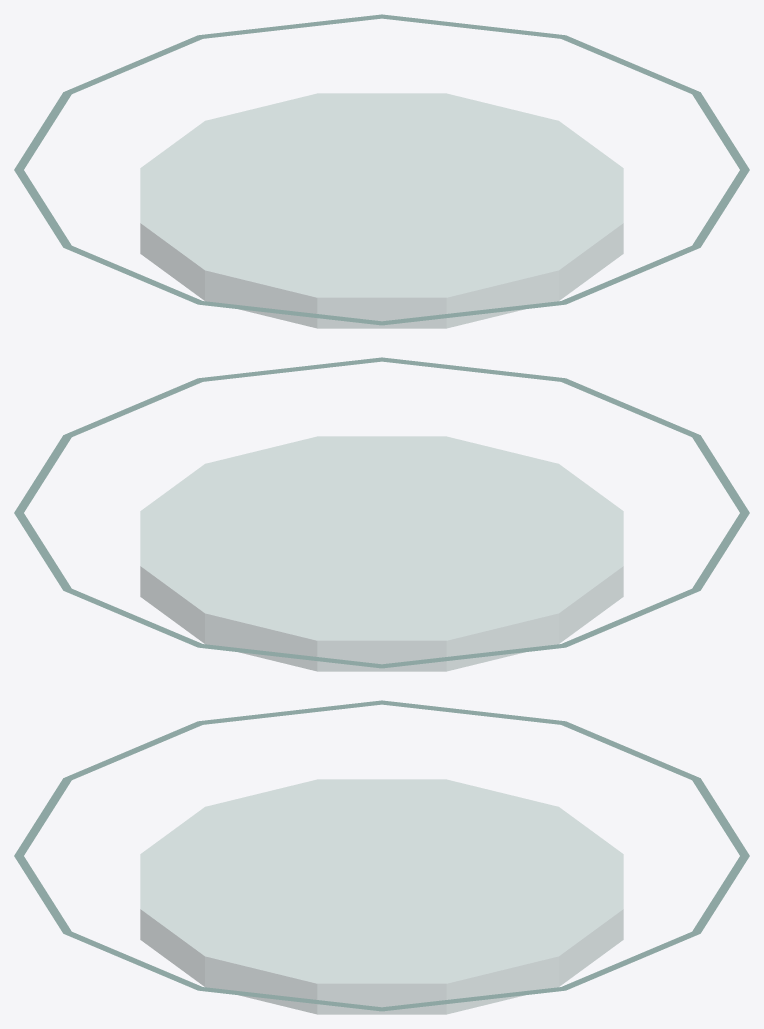
Rendered from glass_plate.glb.
3 views of the same model, one above another, from view 1: azimuth 30°, elevation 25°; view 2: azimuth 150°, elevation 25°; view 3: azimuth 270°, elevation 25° (orthographic).
Visible parts, largest first — view 1: block_thick foot, block_rolled rim 3, block_rolled rim 4, block_rolled rim 9, block_rolled rim 10, block_rolled rim 2, block_rolled rim 5, block_rolled rim 8, block_rolled rim 11, block_rolled rim 0, block_rolled rim 7, block_rolled rim 1 (+1 smaller); view 2: block_thick foot, block_rolled rim 7, block_rolled rim 8, block_rolled rim 1, block_rolled rim 2, block_rolled rim 0, block_rolled rim 3, block_rolled rim 6, block_rolled rim 9, block_rolled rim 4, block_rolled rim 11, block_rolled rim 5 (+1 smaller); view 3: block_thick foot, block_rolled rim 0, block_rolled rim 11, block_rolled rim 5, block_rolled rim 6, block_rolled rim 1, block_rolled rim 4, block_rolled rim 7, block_rolled rim 10, block_rolled rim 3, block_rolled rim 8, block_rolled rim 2 (+1 smaller).
Part boxes in pixels (x1,y1,x2,y2): block_thick foot: [140, 93, 623, 328]; block_rolled rim 3: [382, 301, 565, 325]; block_rolled rim 4: [198, 301, 381, 325]; block_rolled rim 9: [198, 14, 381, 38]; block_rolled rim 10: [382, 14, 565, 38]; block_rolled rim 2: [561, 245, 699, 304]; block_rolled rim 5: [64, 245, 202, 304]; block_rolled rim 8: [63, 35, 202, 94]; block_rolled rim 11: [561, 35, 700, 94]; block_rolled rim 0: [692, 92, 749, 169]; block_rolled rim 7: [14, 92, 71, 169]; block_rolled rim 1: [692, 170, 749, 247]; block_thick foot: [140, 436, 623, 671]; block_rolled rim 7: [382, 644, 565, 668]; block_rolled rim 8: [198, 644, 381, 668]; block_rolled rim 1: [198, 357, 381, 381]; block_rolled rim 2: [382, 357, 565, 381]; block_rolled rim 0: [63, 378, 202, 437]; block_rolled rim 3: [561, 378, 700, 437]; block_rolled rim 6: [561, 588, 699, 647]; block_rolled rim 9: [64, 588, 202, 647]; block_rolled rim 4: [692, 435, 749, 512]; block_rolled rim 11: [14, 435, 71, 512]; block_rolled rim 5: [692, 513, 749, 590]; block_thick foot: [140, 779, 623, 1014]; block_rolled rim 0: [198, 987, 381, 1011]; block_rolled rim 11: [382, 987, 565, 1011]; block_rolled rim 5: [198, 700, 381, 724]; block_rolled rim 6: [382, 700, 565, 724]; block_rolled rim 1: [64, 931, 202, 990]; block_rolled rim 4: [63, 721, 202, 780]; block_rolled rim 7: [561, 721, 700, 780]; block_rolled rim 10: [561, 931, 699, 990]; block_rolled rim 3: [14, 778, 71, 855]; block_rolled rim 8: [692, 778, 749, 855]; block_rolled rim 2: [14, 856, 71, 933].
Bounding box in the file's own units: 0.26 × 0.022 × 0.26.
2 materials, 2 textured.
